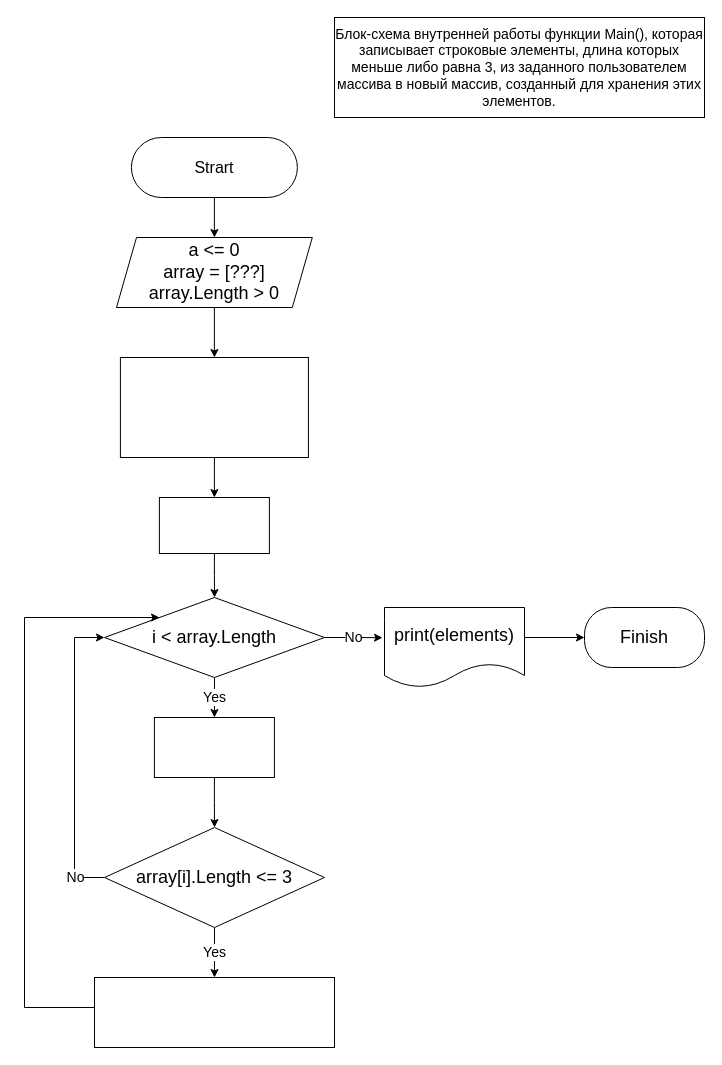
The diagram is 722 pixels wide and 1065 high, and some of its shapes have lost their labels. Here are the shapes that lost their labels. From the top down, the centre of each, then its label:
At (213,407): "count = 0 elements = [ ] elements.Length = a".
At (213,525): "i = 0".
At (213,747): "i++".
At (214,1012): "elements[count] += array[i] count++".
